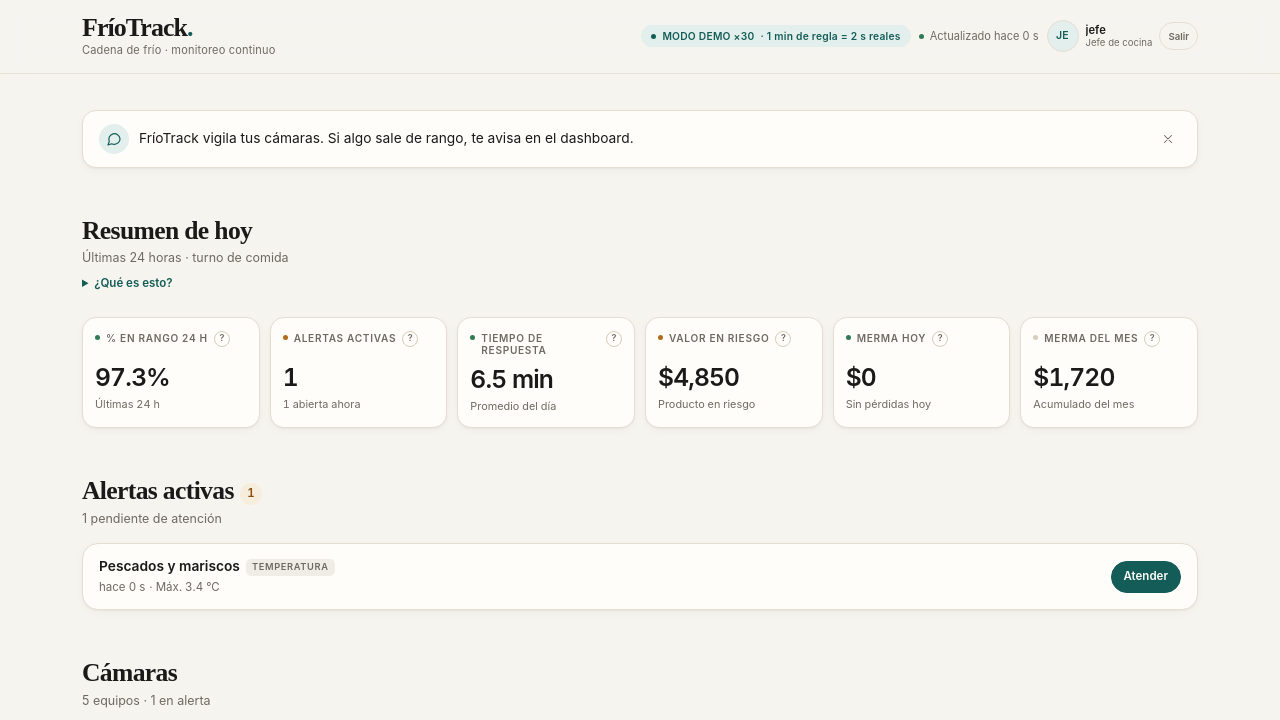
Test: vista general › explica qué es el resumen de hoy al abrir el detalle
Click the heading "¿Qué es esto?".
click(133, 283)  # box [94, 276, 172, 290]
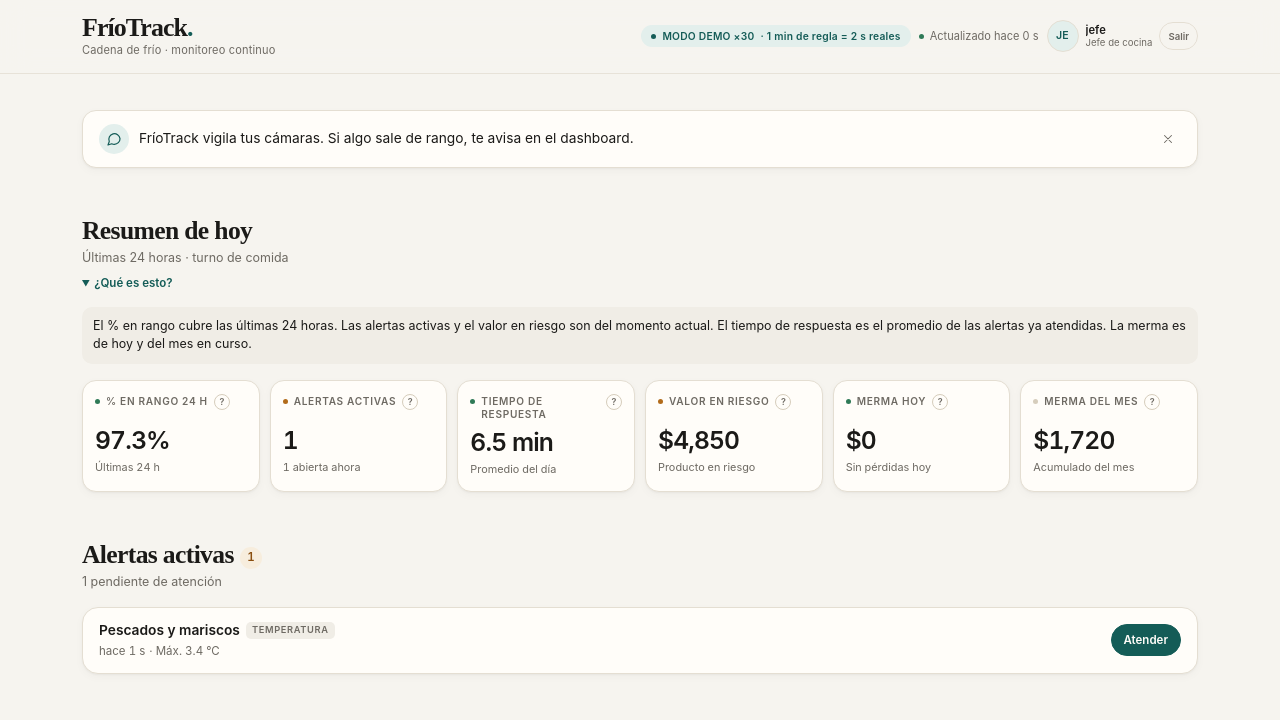
Expected: the text "El % en rango cubre las últimas 24 horas" is shown, [93, 318, 1186, 351]
